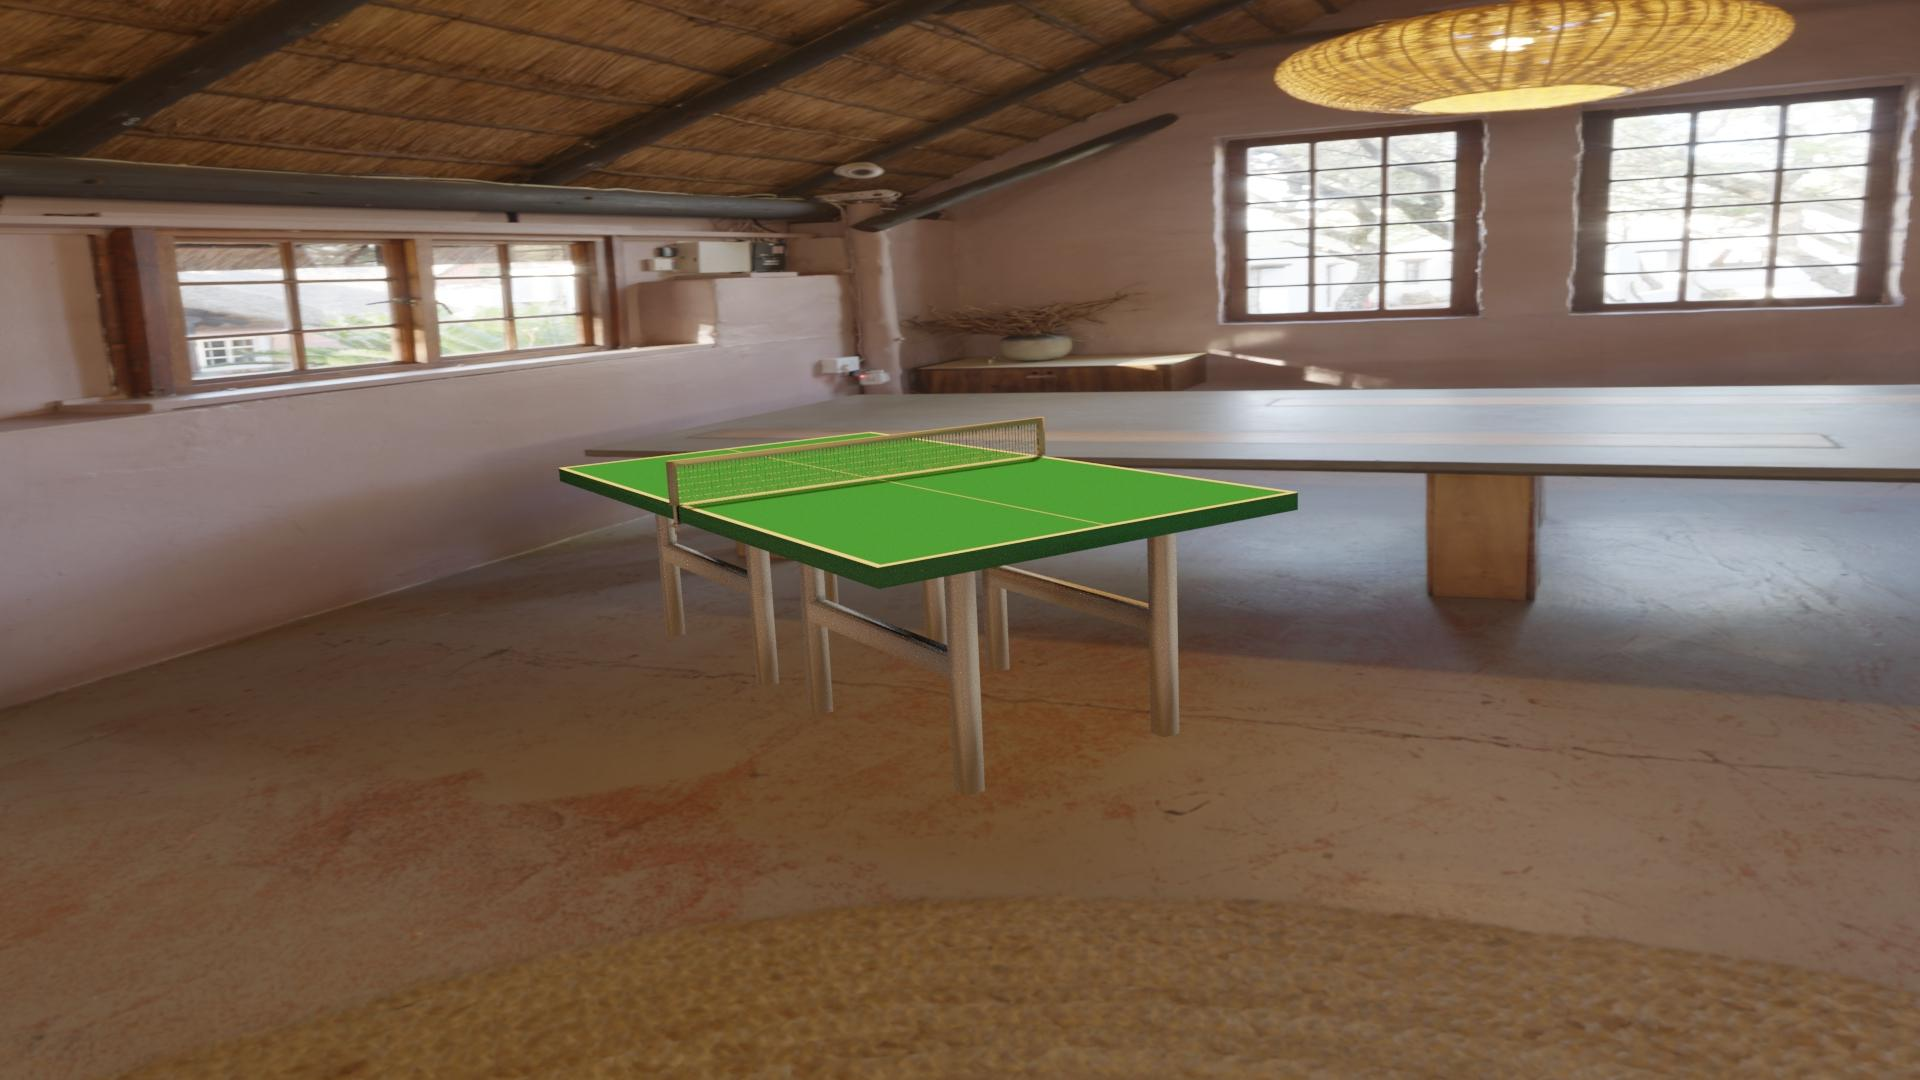table: (564, 433, 1288, 564)
